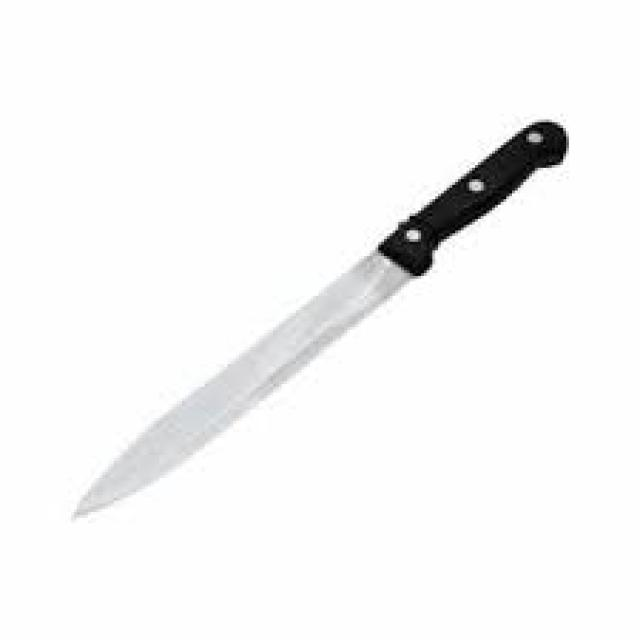Knife: (71, 119, 566, 518)
